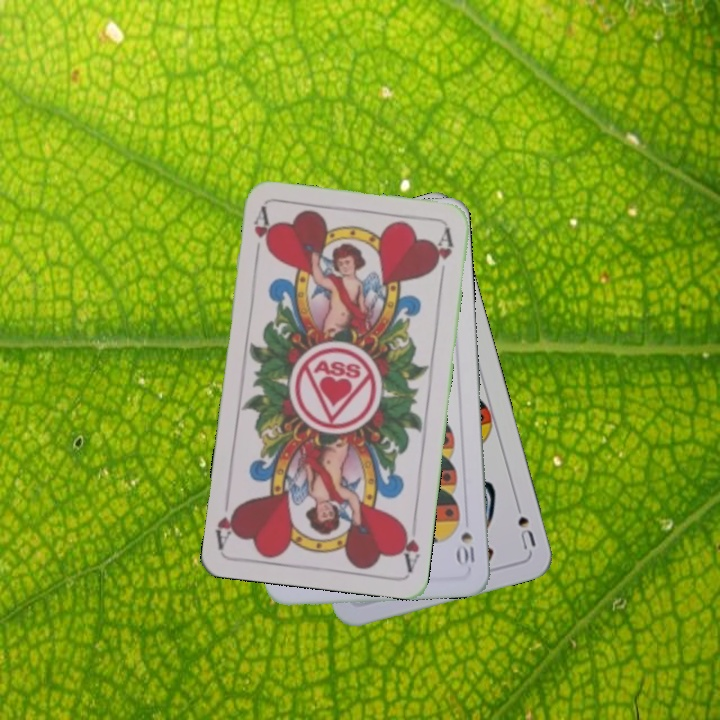HA: (395, 514, 423, 574), (249, 204, 275, 263)
S10: (455, 528, 477, 568)
SU: (510, 495, 539, 553)
